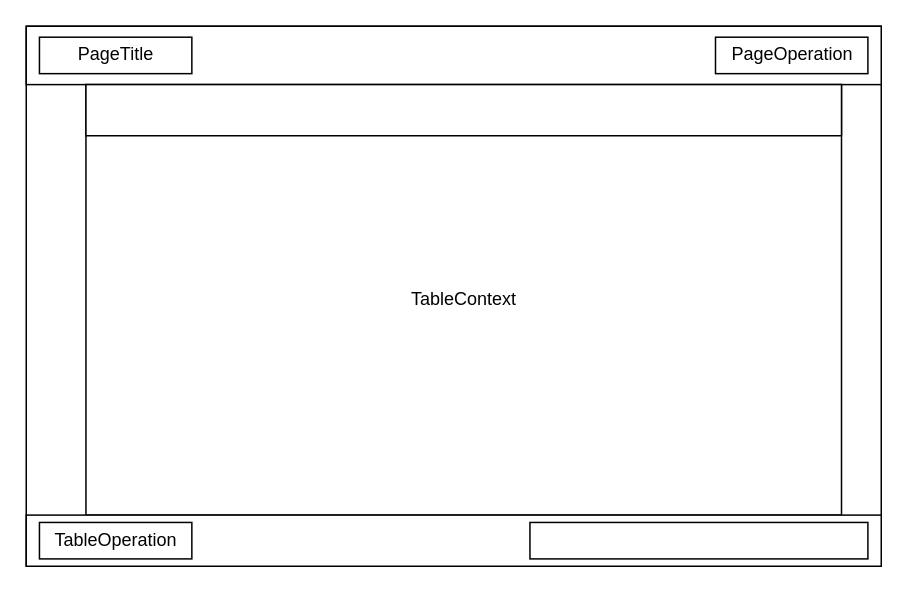
This 908x593 diagram has some shape labels left out. The shapes that lost their labels are listed below. From the top down, each one's box as (x1, y1, x2, y2) in pixels, then its label:
(84, 83, 842, 136): Filter
(528, 521, 868, 559): Pageination
